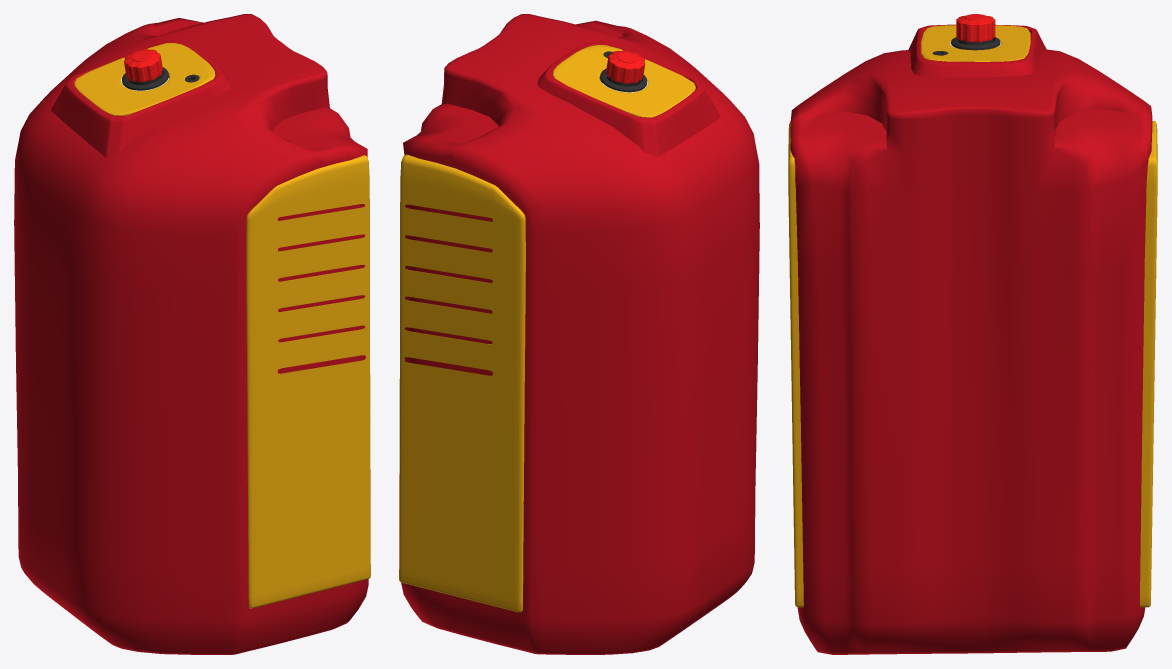
Rendered from 7-cervenysloupek.dae.
3 renders of one model, left to right at view 1: azimuth 30°, elevation 25°; view 2: azimuth 150°, elevation 25°; view 3: azimuth 270°, elevation 25°, orthographic. The views are drawn at different scales.
Visible parts, largest first — view 1: Object012_PVC Fb Red_0, Object012_PVC Fb Yellow_0, Object012_Red PVC Fb satin_0, Object012_Black PVC Fb satin_0; view 2: Object012_PVC Fb Red_0, Object012_PVC Fb Yellow_0, Object012_Red PVC Fb satin_0, Object012_Black PVC Fb satin_0; view 3: Object012_PVC Fb Red_0, Object012_PVC Fb Yellow_0, Object012_Red PVC Fb satin_0.
Part boxes in pixels (x1,y1,x2,y2): Object012_PVC Fb Red_0: (14,14,368,654); Object012_PVC Fb Yellow_0: (74,43,370,608); Object012_Red PVC Fb satin_0: (124,49,162,82); Object012_Black PVC Fb satin_0: (122,67,199,90); Object012_PVC Fb Red_0: (401,14,759,654); Object012_PVC Fb Yellow_0: (399,44,695,612); Object012_Red PVC Fb satin_0: (606,50,645,83); Object012_Black PVC Fb satin_0: (599,51,647,92); Object012_PVC Fb Red_0: (790,24,1152,654); Object012_PVC Fb Yellow_0: (788,25,1157,607); Object012_Red PVC Fb satin_0: (956,14,995,42).
Bounding box in the file's own units: 0.1504 × 0.1793 × 0.3064.
